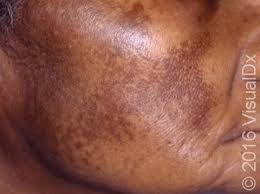Melasma: (21, 1, 222, 178)
